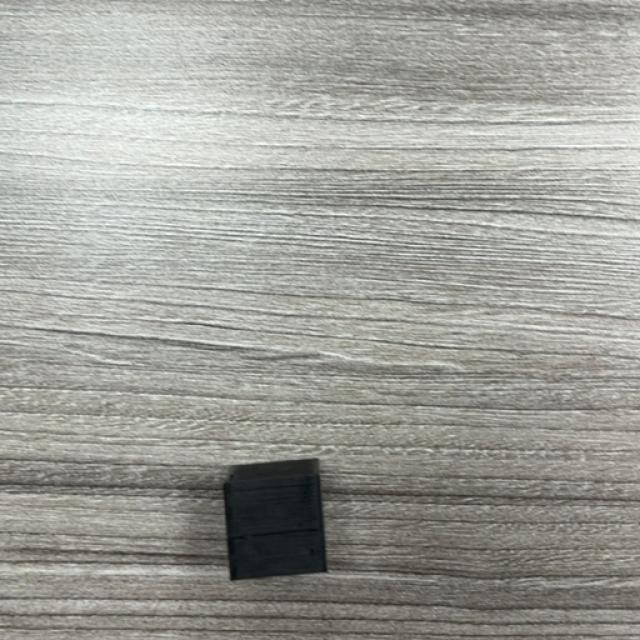Negro: (221, 459, 328, 584)
